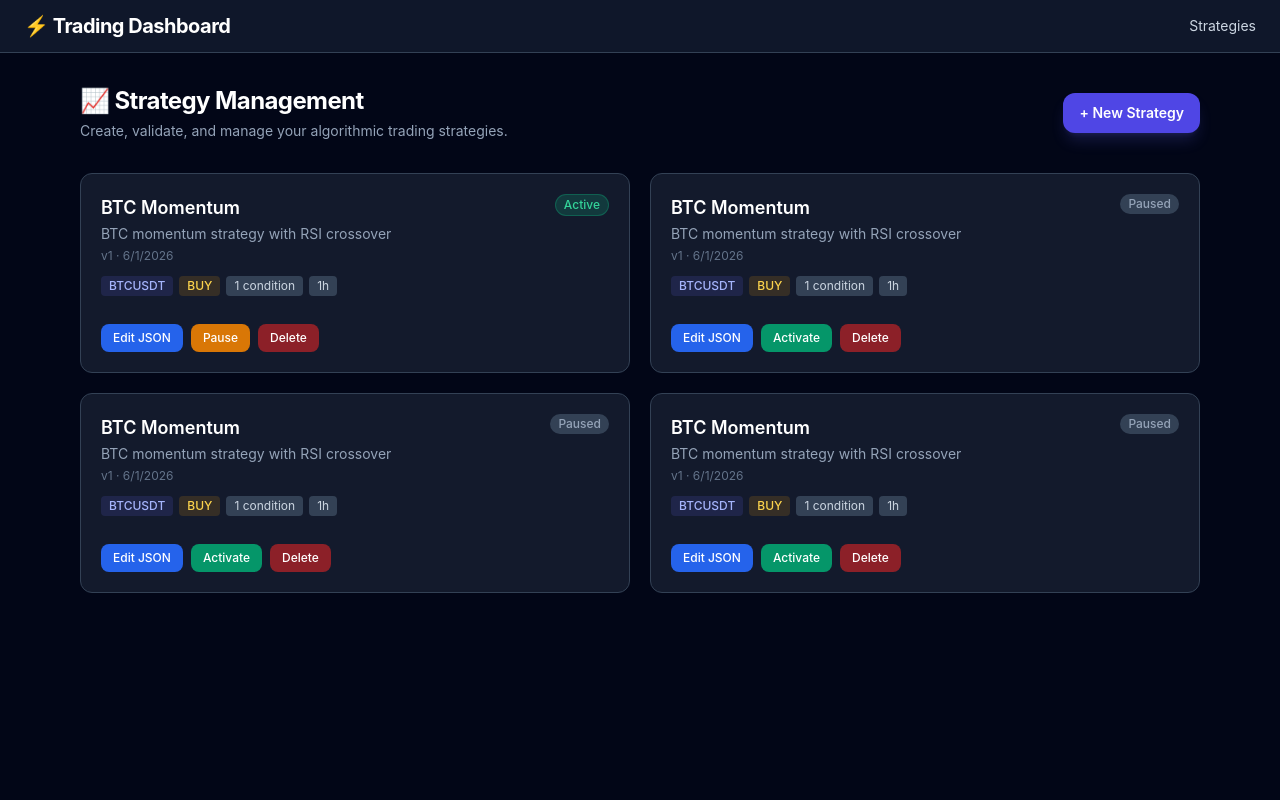
Test: StrategiesPage – JSON Editor & Upload › opens the create modal when '+ New Strategy' is clicked
Click the button "+ New Strategy".
click(1132, 113)  # box [1064, 93, 1200, 133]
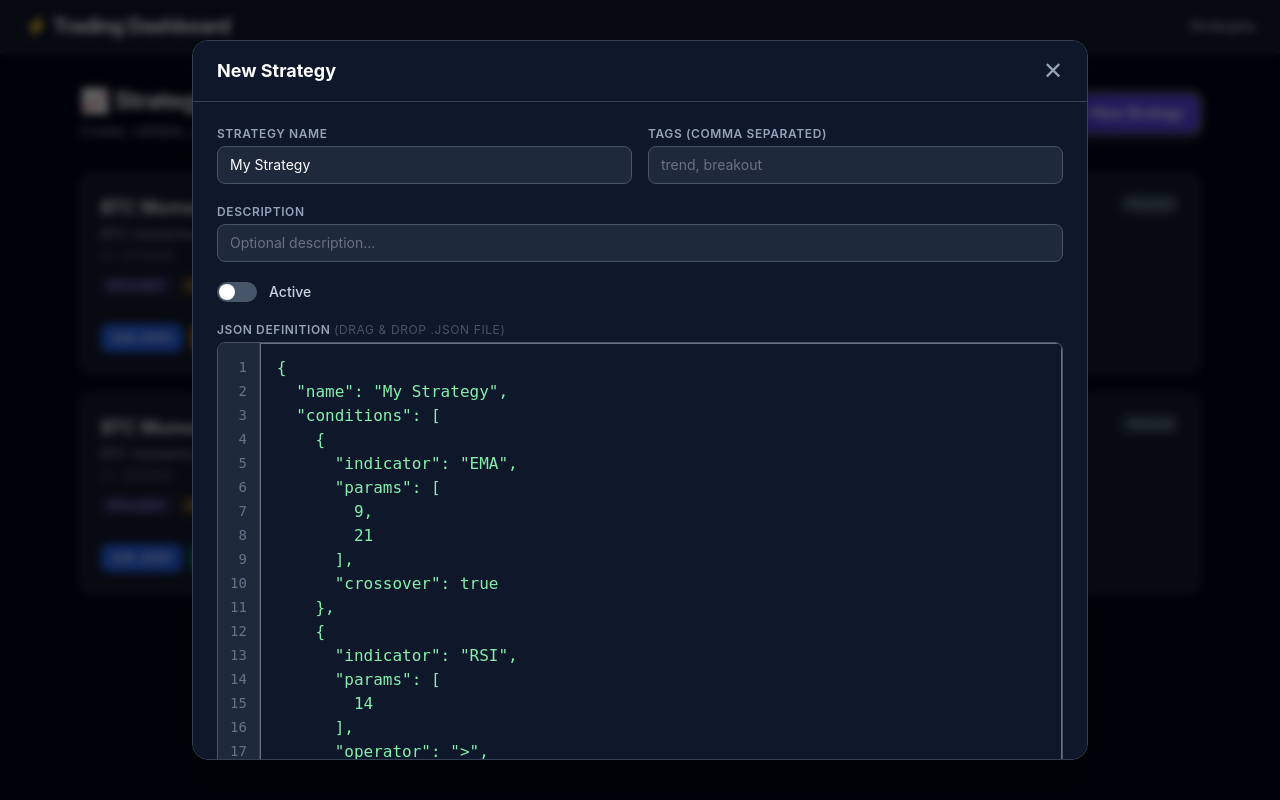
expect the heading "New Strategy" is shown: met, box [217, 57, 336, 85]
